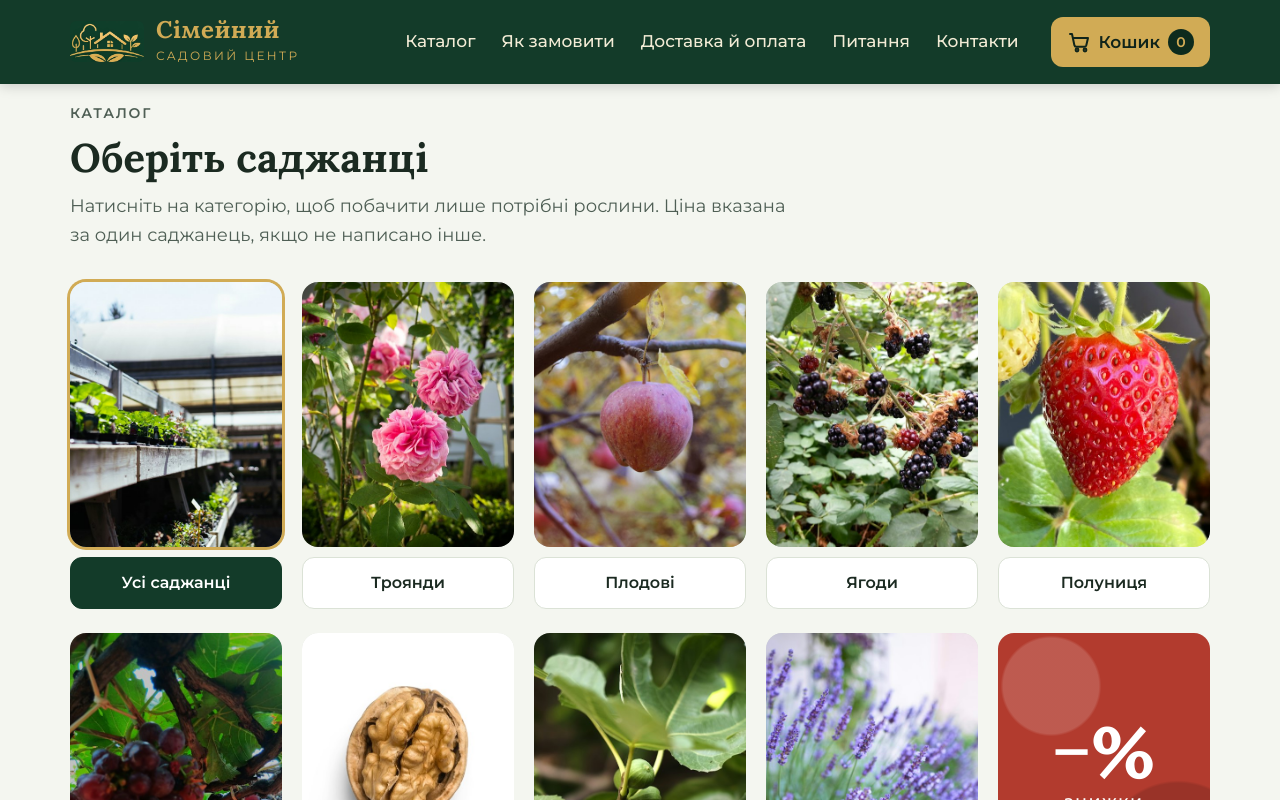
Scenario: каталог › показує рослини з API і фільтрує за категорією
(page scrolled)
Click the button "Троянди" at point(408, 445), box [302,282,514,609]
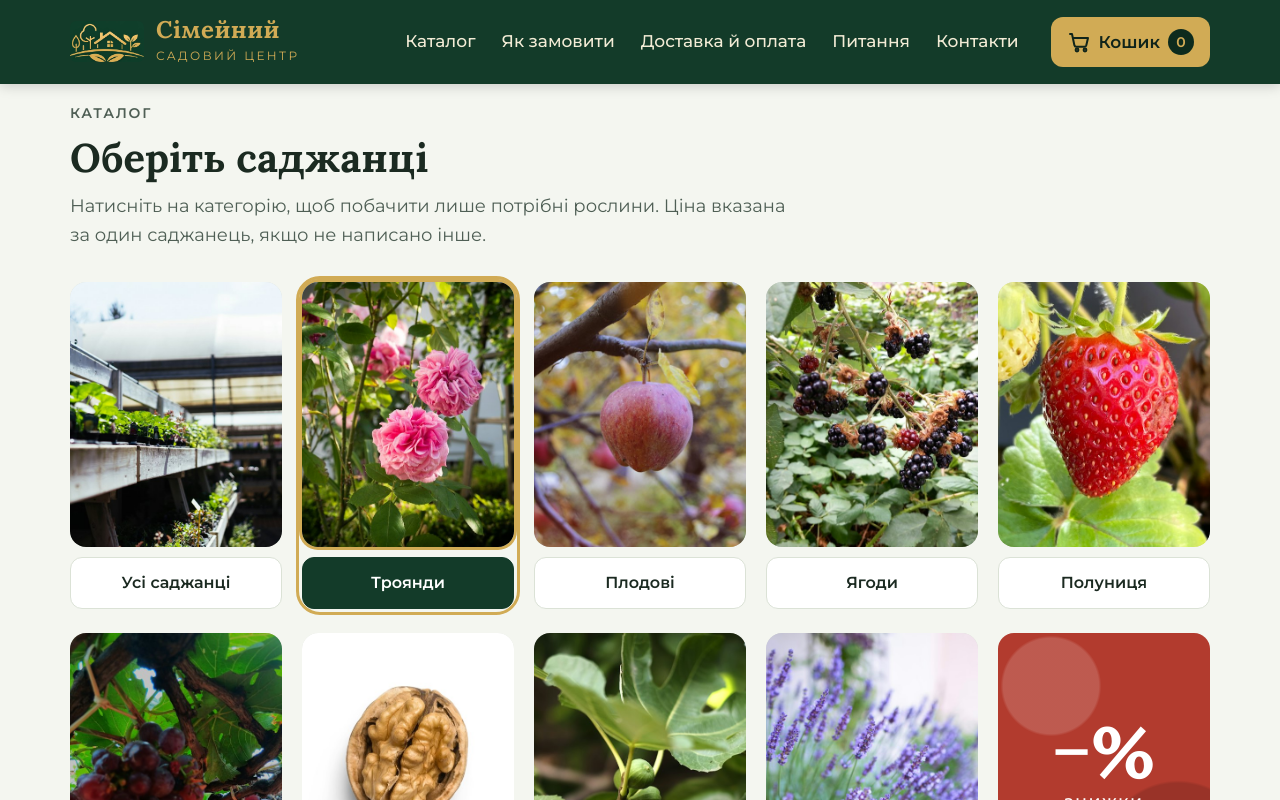
Click the button "Ягоди" at point(872, 445), box [766,282,978,609]
(page scrolled)
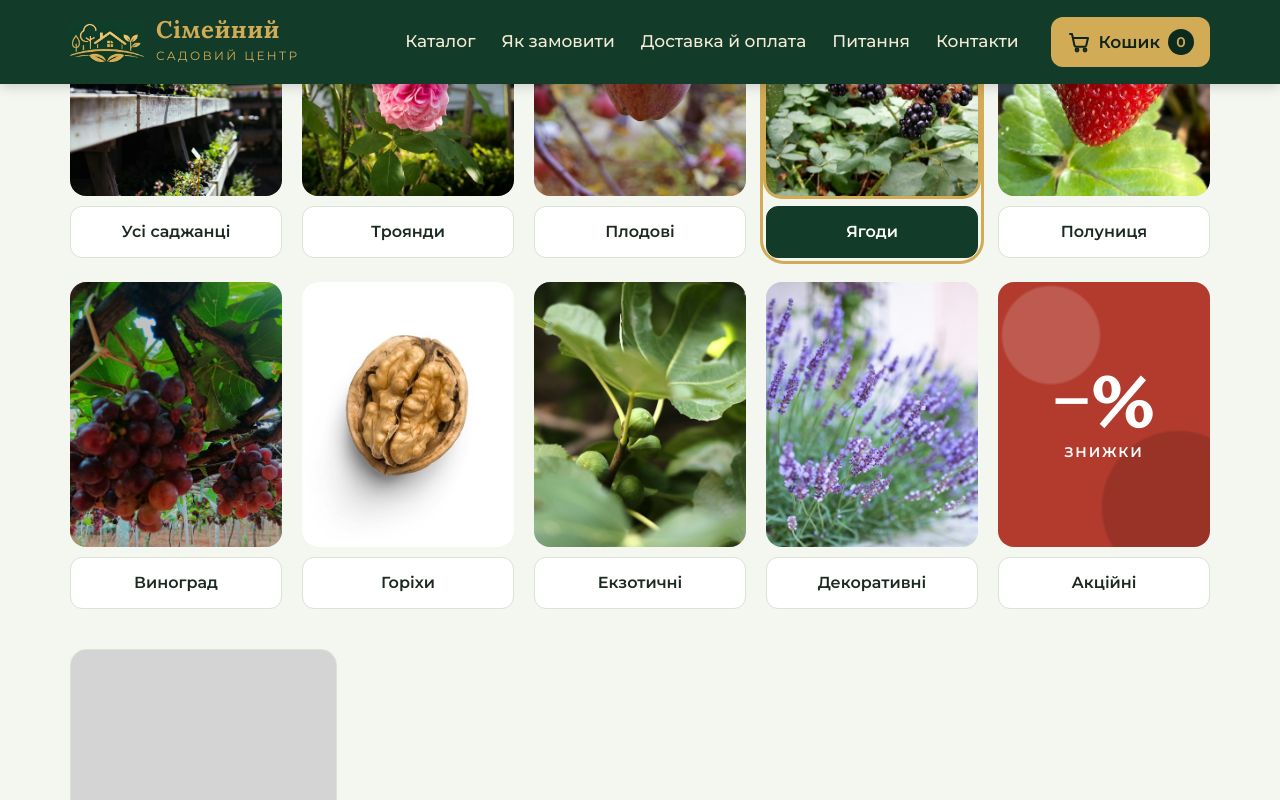
Click the button "−% знижки Акційні" at point(1104, 445), box [998,282,1210,609]
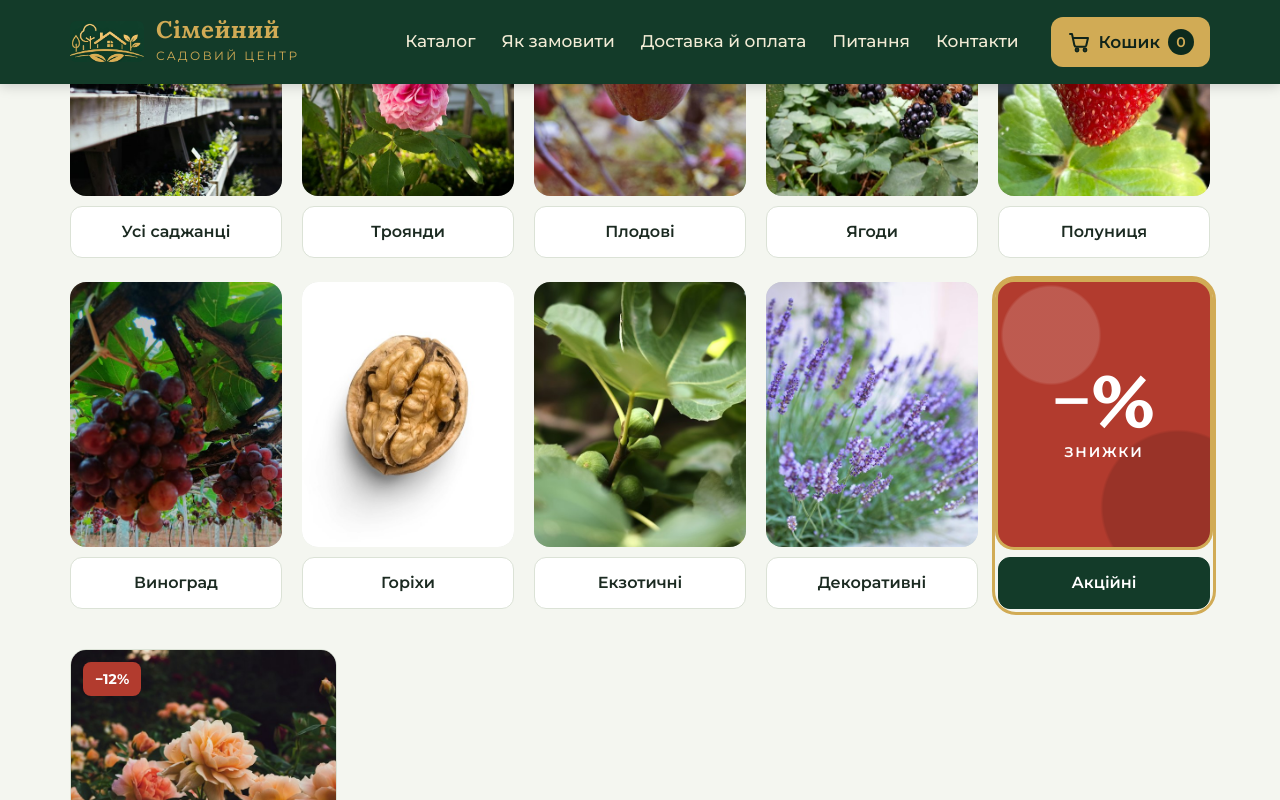
Expected: the text "−12%" is shown, [83,662,141,696]
Click the button "Горіхи" at point(408, 445), box [302,282,514,609]
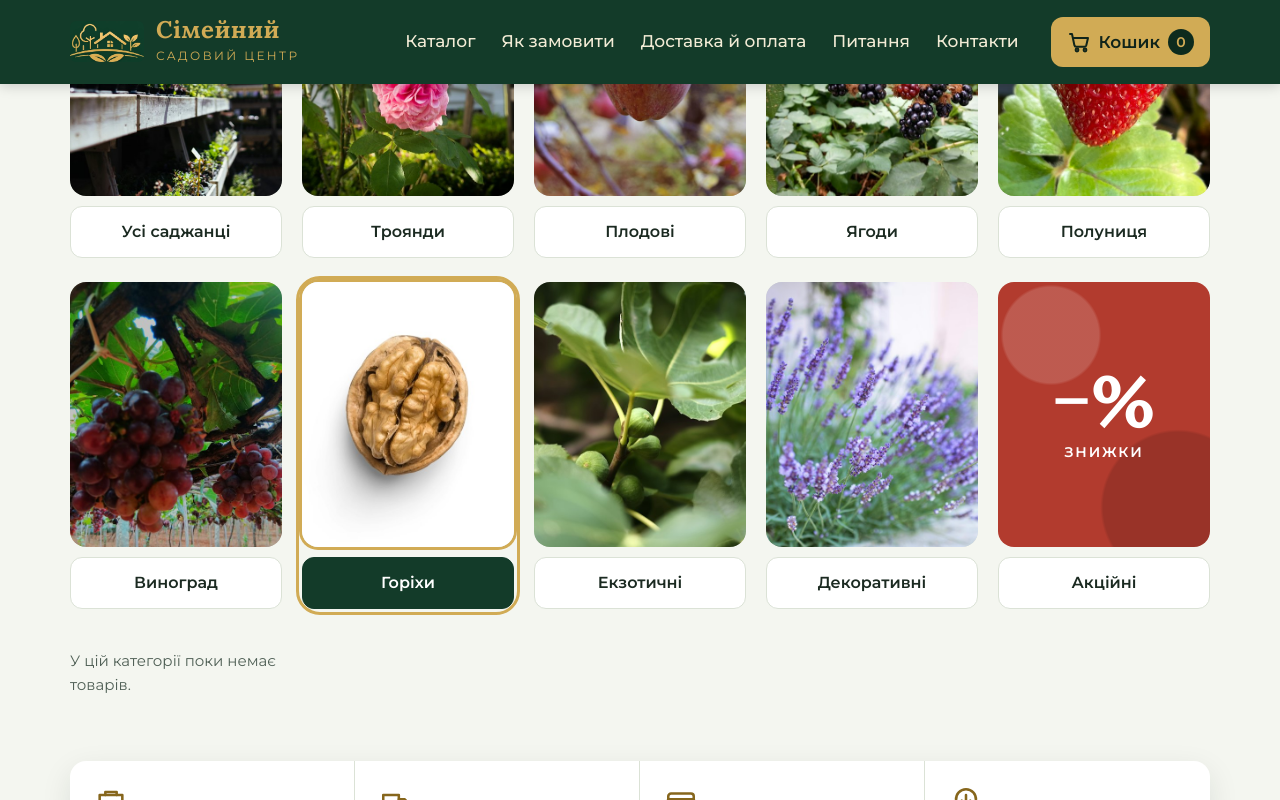
Expected: the text "У цій категорії поки немає товарів." is shown, [70,651,276,694]
